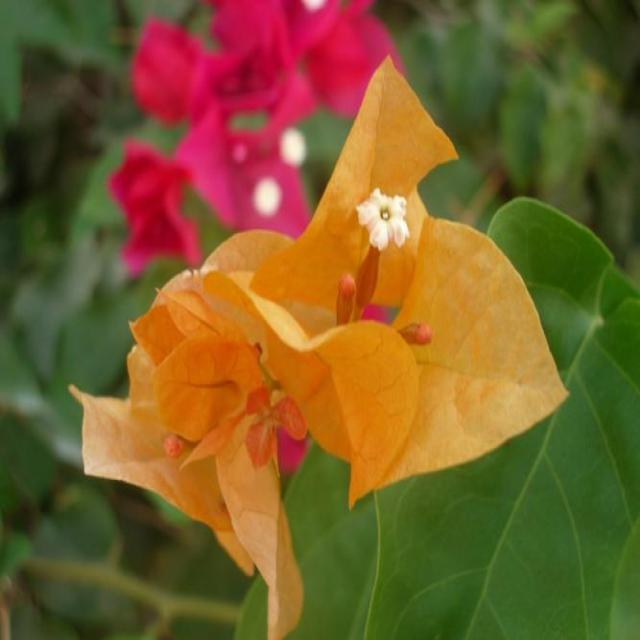bougainvillea: (59, 192, 377, 640)
